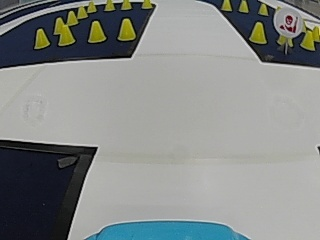evil: (273, 7, 303, 37)
